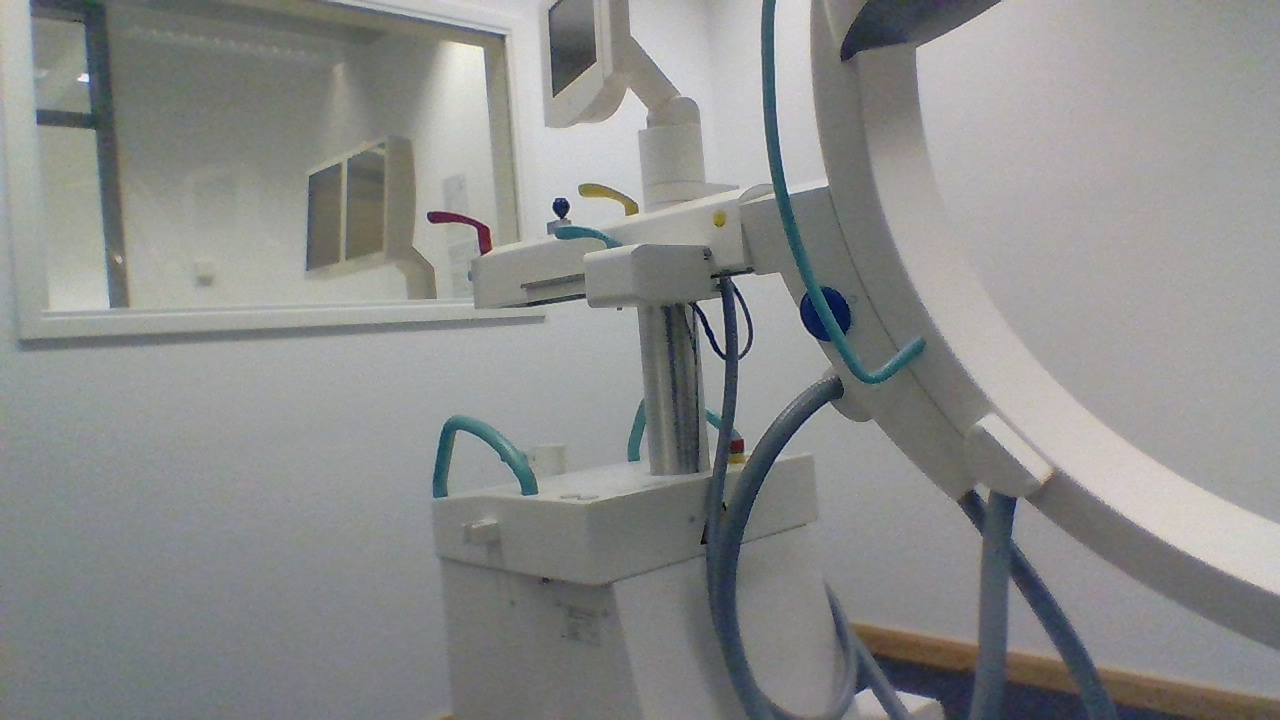carmBACK: (496, 439, 568, 478)
carmLOCK: (798, 283, 854, 342)
